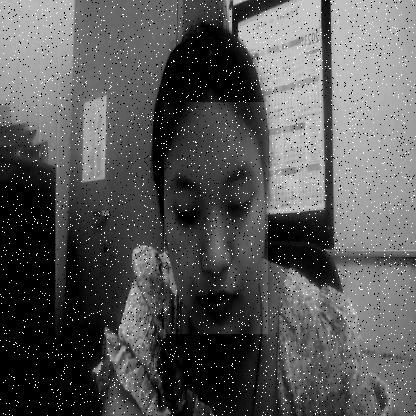Normal: (164, 102, 268, 334)
